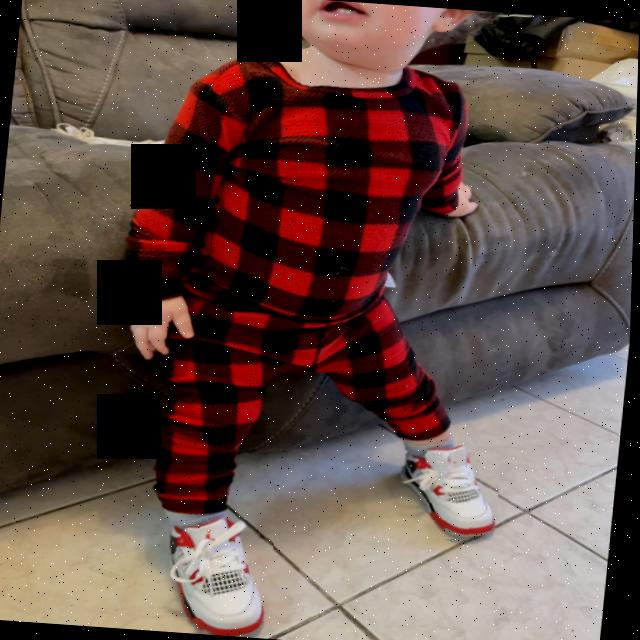shoe: (159, 514, 279, 637), (398, 442, 505, 542)
